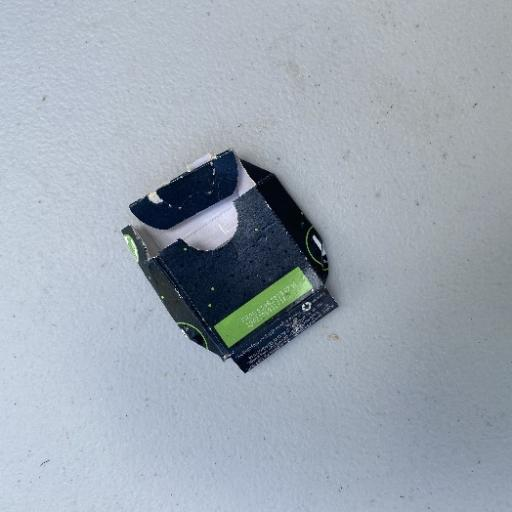Cardboard: (119, 148, 340, 374)
